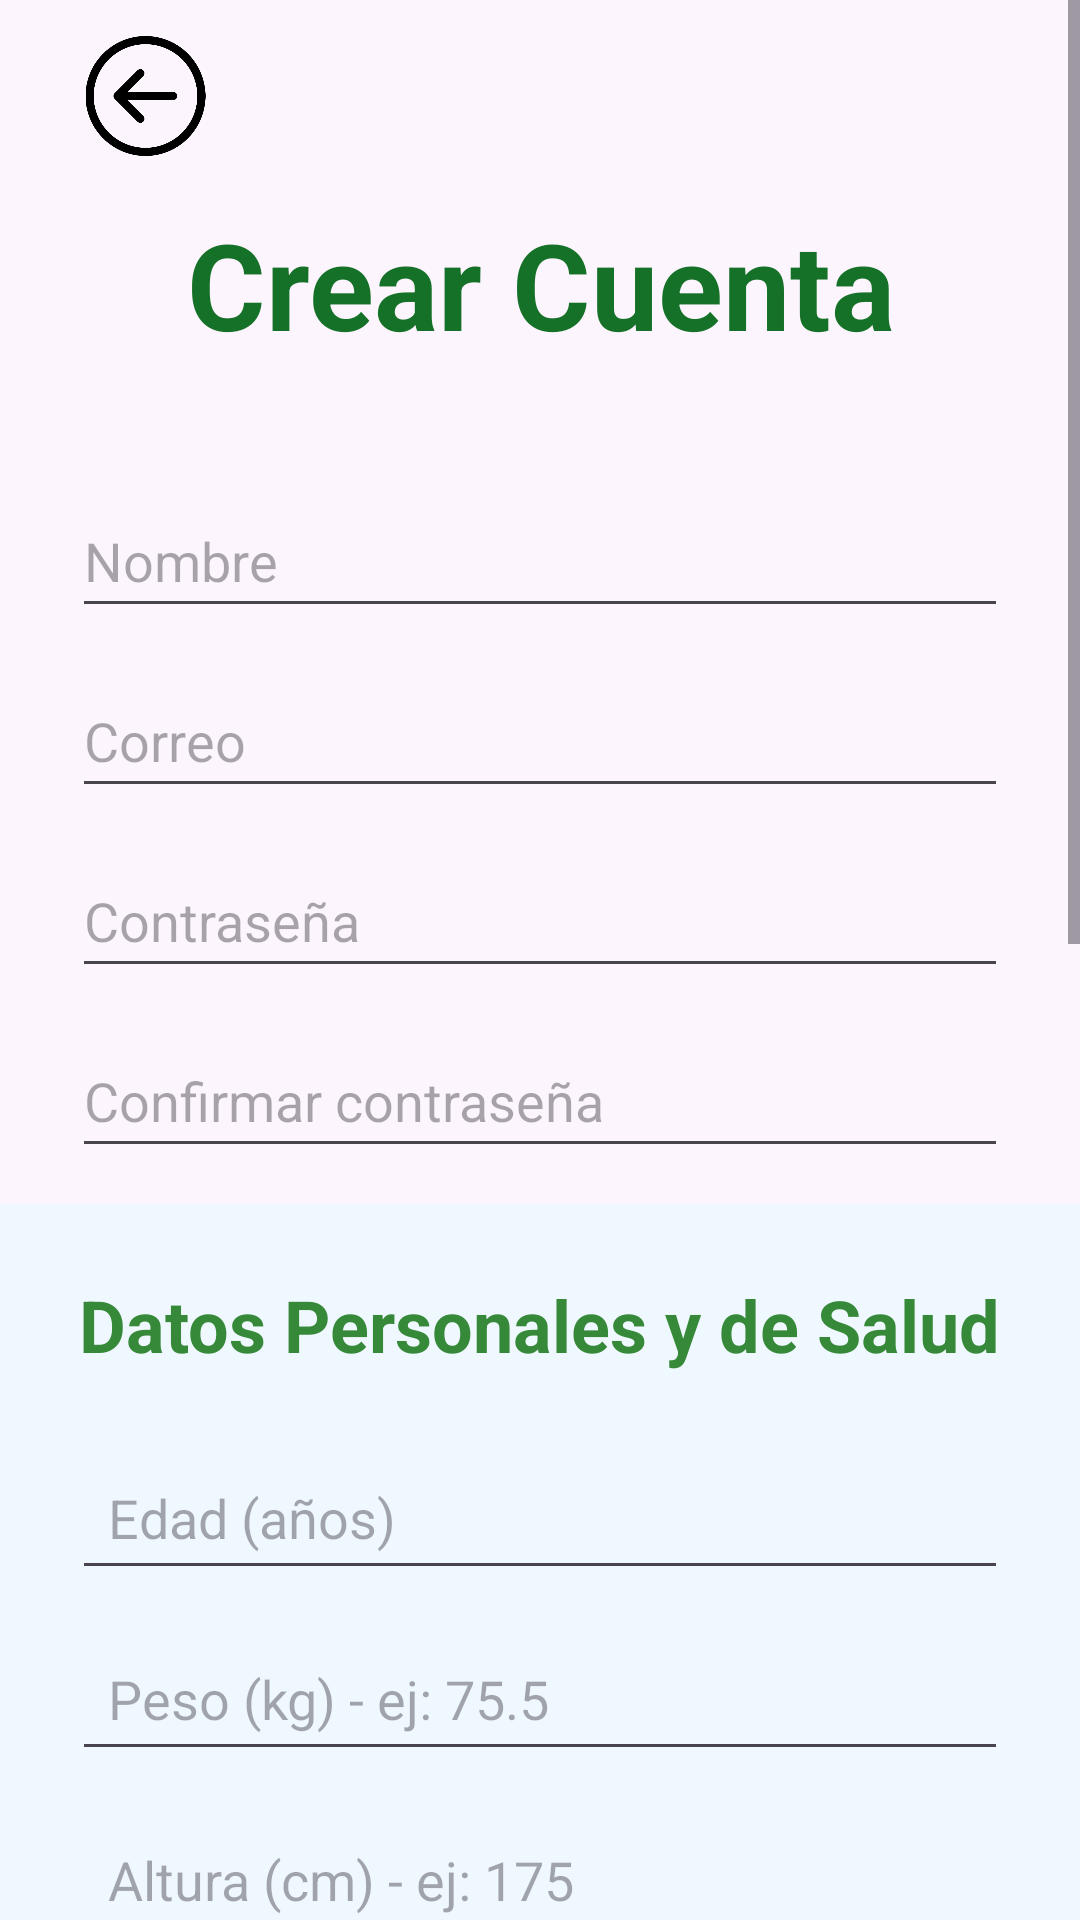

Icon bounding boxes for this 1080px×1920px phone screenshot, format (x1, y1, x2, y2):
back: (86, 36, 206, 156)
